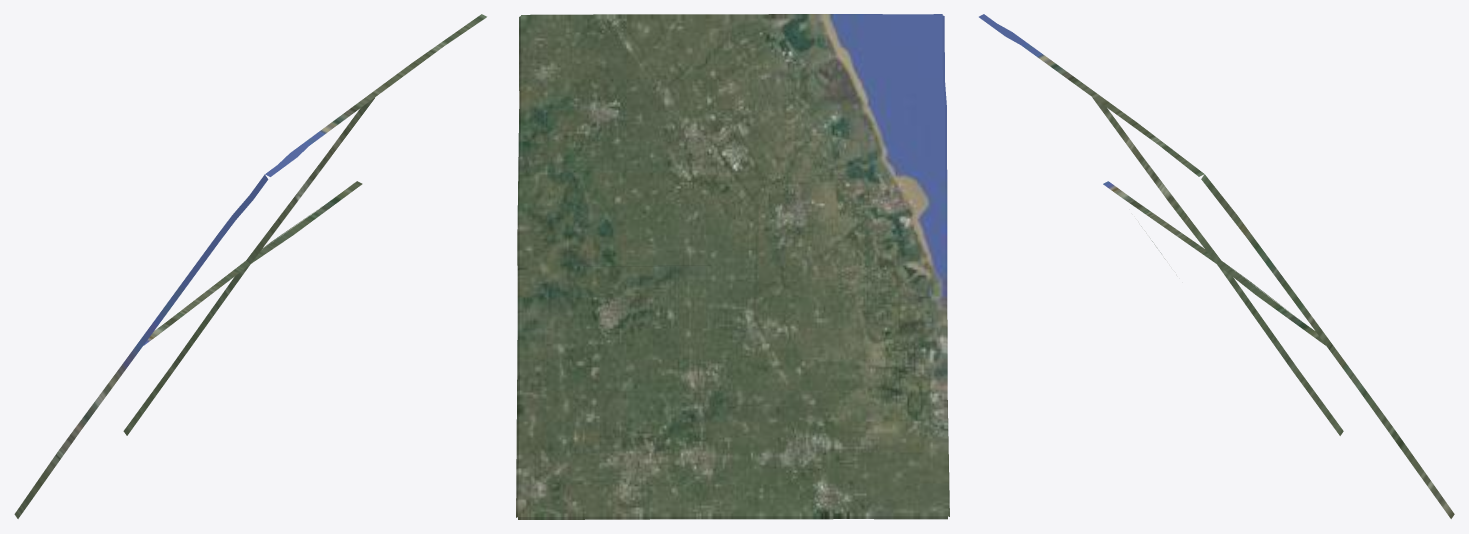
3 views of the same model, side by side, from view 1: azimuth 30°, elevation 25°; view 2: azimuth 150°, elevation 25°; view 3: azimuth 270°, elevation 25° (orthographic). The views are drawn at different scales.
Bounding box in the file's own units: 158355 × 133325 × 141972.
Materials: 1 (1 with a texture image).
